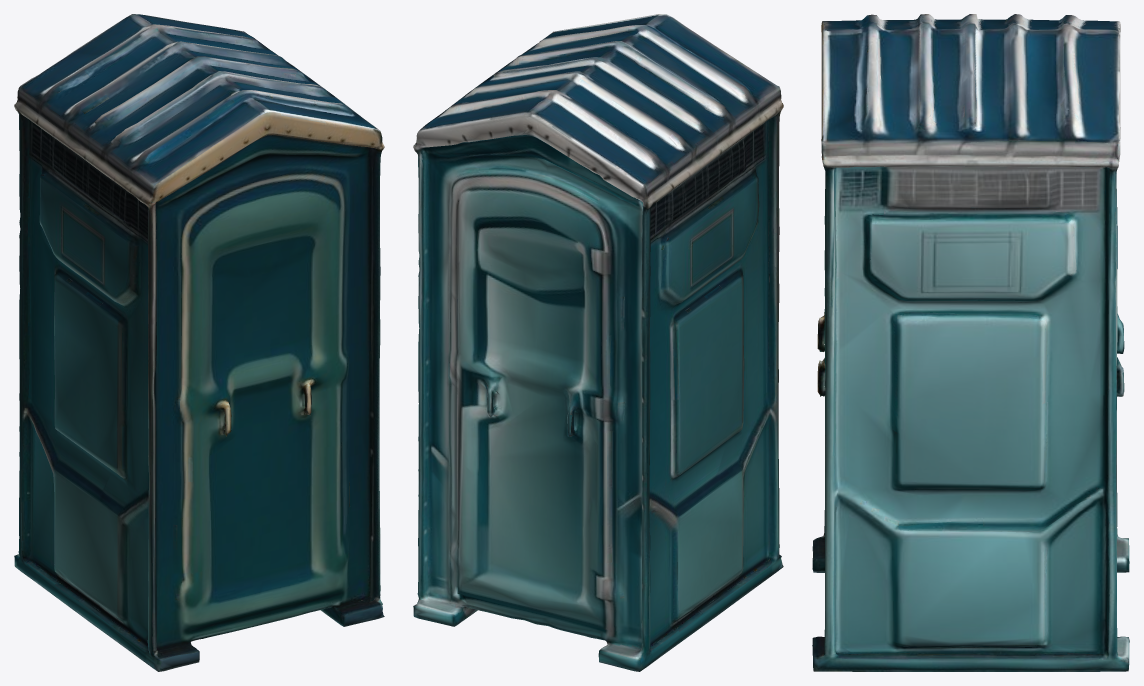
The model's file is portapotty.glb.
The picture shows the model from 3 angles, left to right: view 1: azimuth 30°, elevation 25°; view 2: azimuth 150°, elevation 25°; view 3: azimuth 270°, elevation 25°; orthographic projection. The views are drawn at different scales.
Parts seen in each view (by area): view 1: Object_4; view 2: Object_4; view 3: Object_4.
Boxes of the visible parts, x1,y1,x2,y2 form: Object_4: (14,14,384,671); Object_4: (413,14,783,671); Object_4: (812,14,1129,671).
Size of the model in its own units: 1.07 by 2.3 by 1.13.
1 material, 1 textured.
